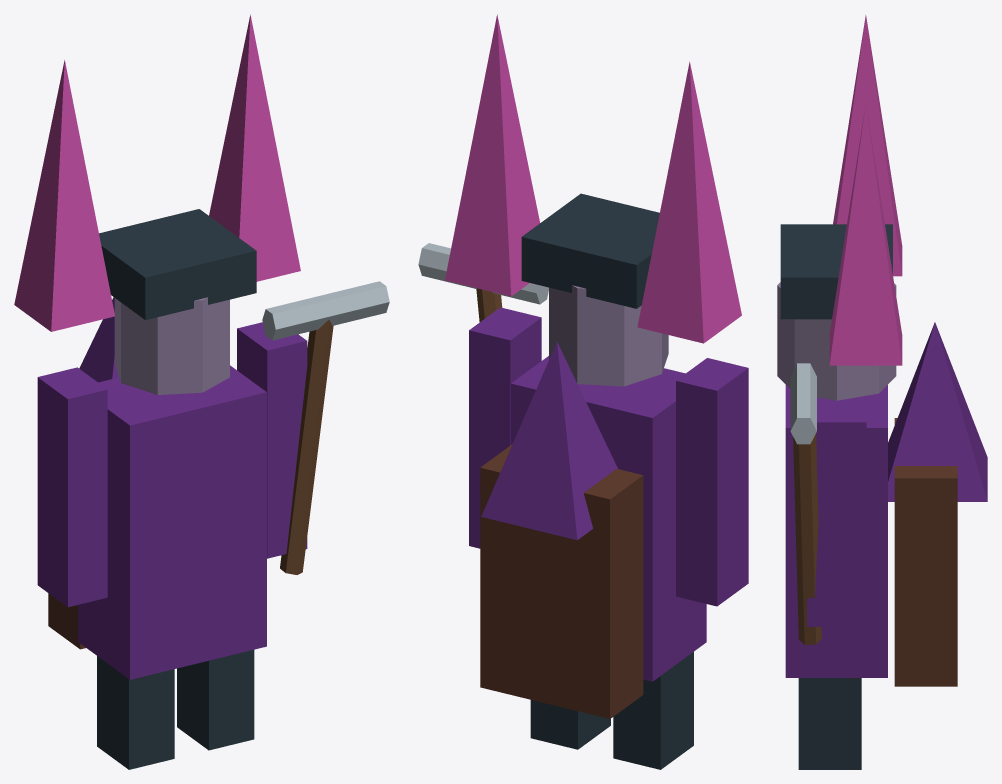
Rendered from worker.obj.
3 views of the same model, side by side, from view 1: azimuth 30°, elevation 25°; view 2: azimuth 150°, elevation 25°; view 3: azimuth 270°, elevation 25° (orthographic). The views are drawn at different scales.
Parts seen in each view (by area): view 1: worker; view 2: worker; view 3: worker.
Part boxes in pixels (box(x1,y1,x2,y2)): worker: box(14, 14, 389, 769); worker: box(418, 14, 748, 769); worker: box(777, 15, 987, 769).
Size of the model in its own units: 0.9952 by 2.07 by 0.5788.
